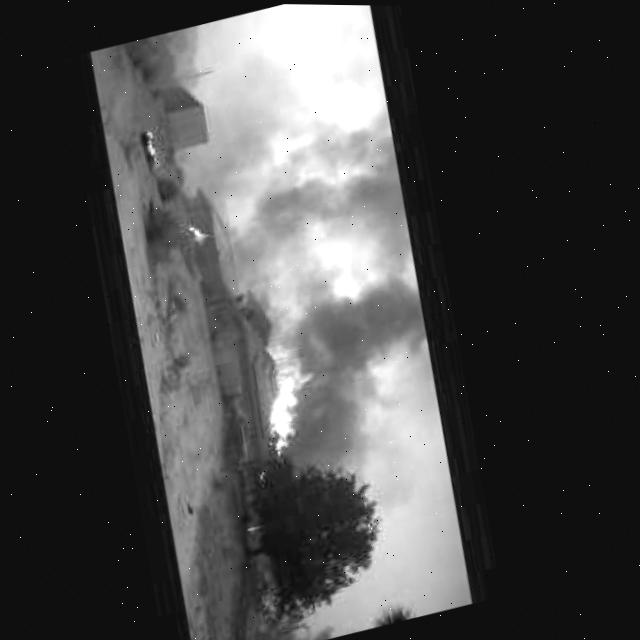Smoke: (197, 99, 472, 463)
